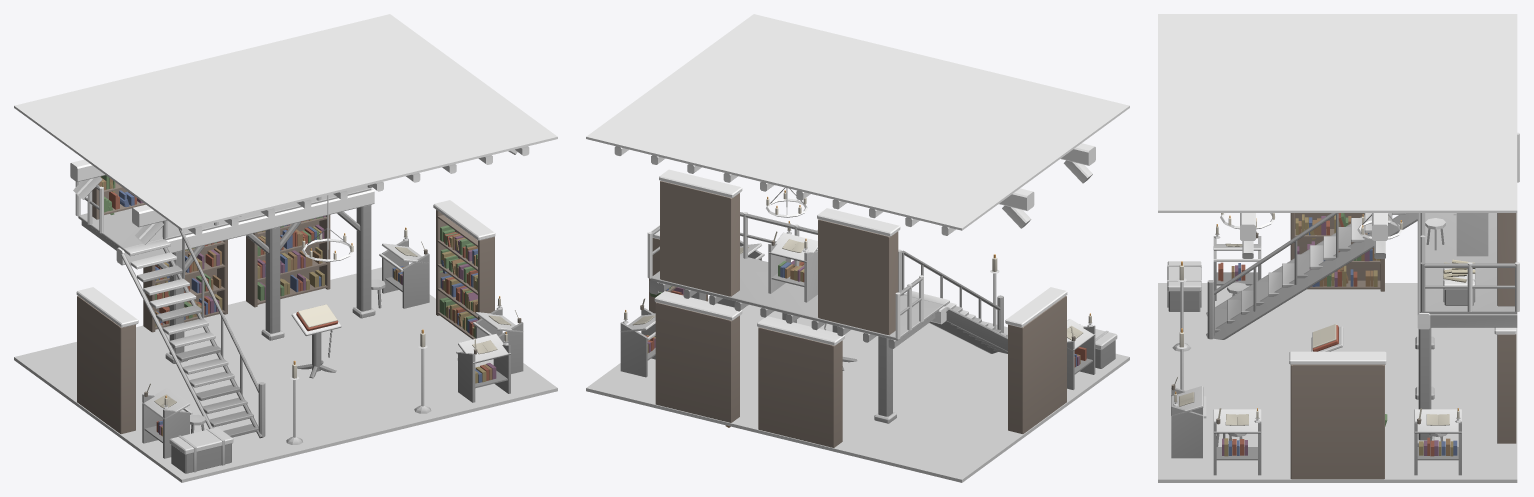
File: scriptorium_interior.glb
3 renders of one model, left to right at view 1: azimuth 30°, elevation 25°; view 2: azimuth 150°, elevation 25°; view 3: azimuth 270°, elevation 25°, orthographic. The views are drawn at different scales.
Visible parts, largest first — view 1: baluster; view 2: baluster; view 3: baluster.
Part boxes in pixels (<box>): baluster: <box>14,14,557,482</box>; baluster: <box>586,14,1129,482</box>; baluster: <box>1158,14,1519,482</box>.
Size of the model in its own units: 9 by 5.78 by 6.85.
